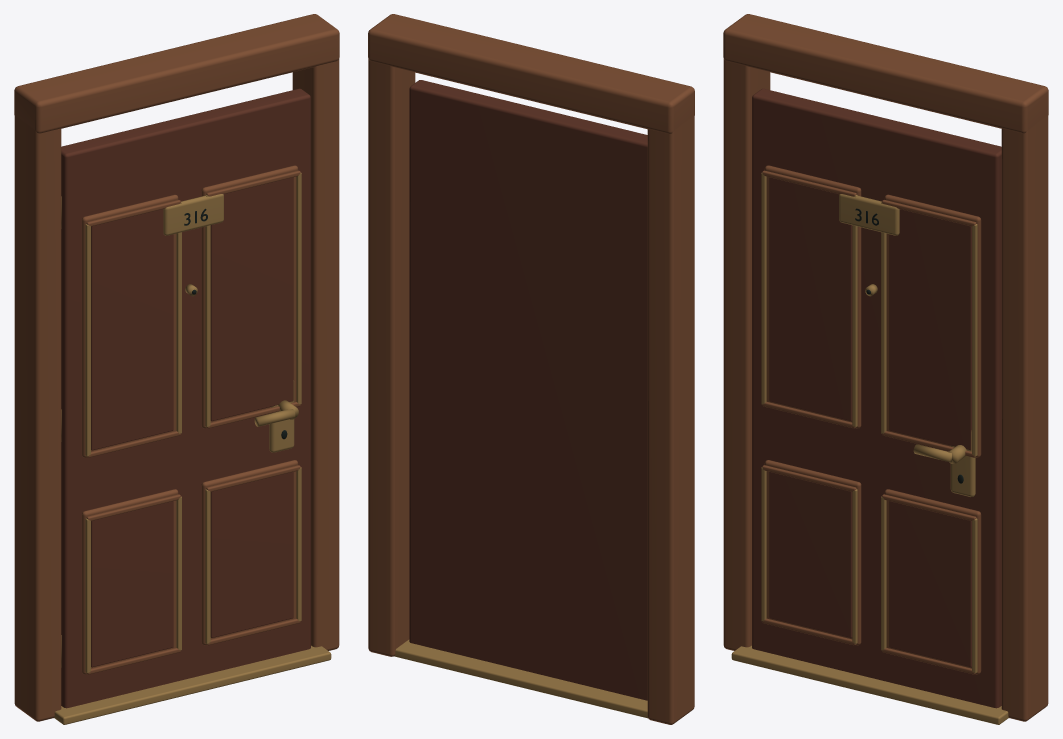
The model's file is door.glb.
3 renders of one model, left to right at view 1: azimuth 30°, elevation 25°; view 2: azimuth 150°, elevation 25°; view 3: azimuth 330°, elevation 25°, orthographic.
Parts seen in each view (by area): view 1: door__Dark_mahogany, door__Mahogany_edges, door__Aged_brass; view 2: door__Dark_mahogany, door__Mahogany_edges, door__Aged_brass; view 3: door__Dark_mahogany, door__Mahogany_edges, door__Aged_brass.
Boxes of the visible parts, <box> form: door__Dark_mahogany: <box>61,88,310,708</box>; door__Mahogany_edges: <box>14,14,339,721</box>; door__Aged_brass: <box>54,172,331,724</box>; door__Dark_mahogany: <box>409,80,647,700</box>; door__Mahogany_edges: <box>368,14,694,724</box>; door__Aged_brass: <box>394,639,647,718</box>; door__Dark_mahogany: <box>752,88,1001,708</box>; door__Mahogany_edges: <box>723,14,1048,721</box>; door__Aged_brass: <box>731,172,1008,724</box>.
Bounding box in the file's own units: 1.27 × 2.48 × 0.288.
